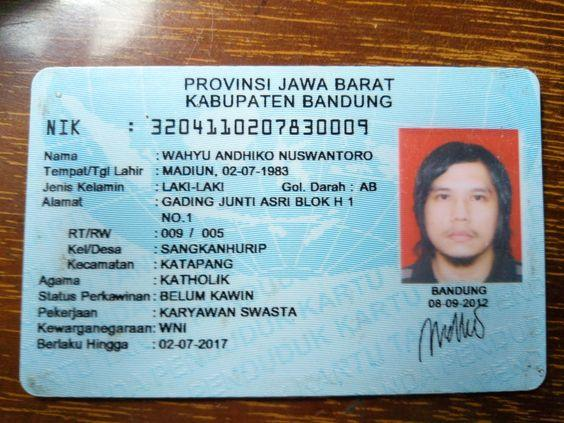ID-card: (26, 68, 539, 394)
